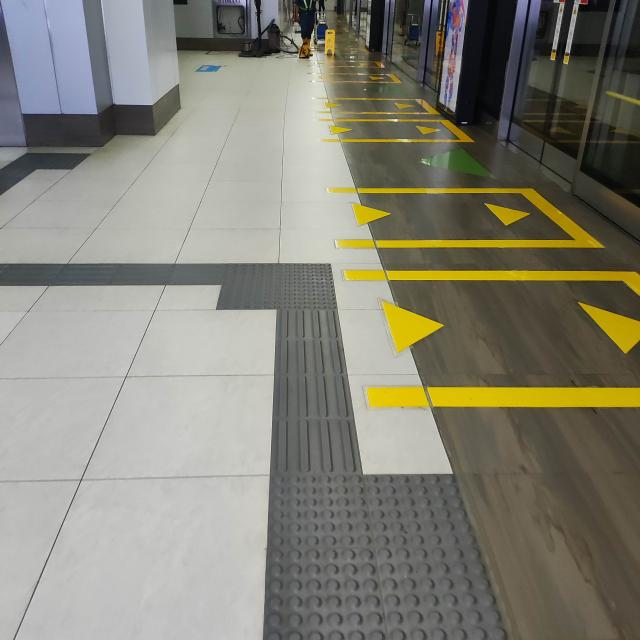kiri: (149, 232, 375, 348)
